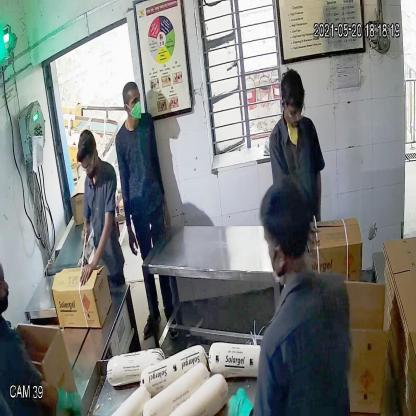goggles: (280, 98, 307, 124), (79, 156, 98, 174)
no_goggles: (119, 94, 142, 111)
